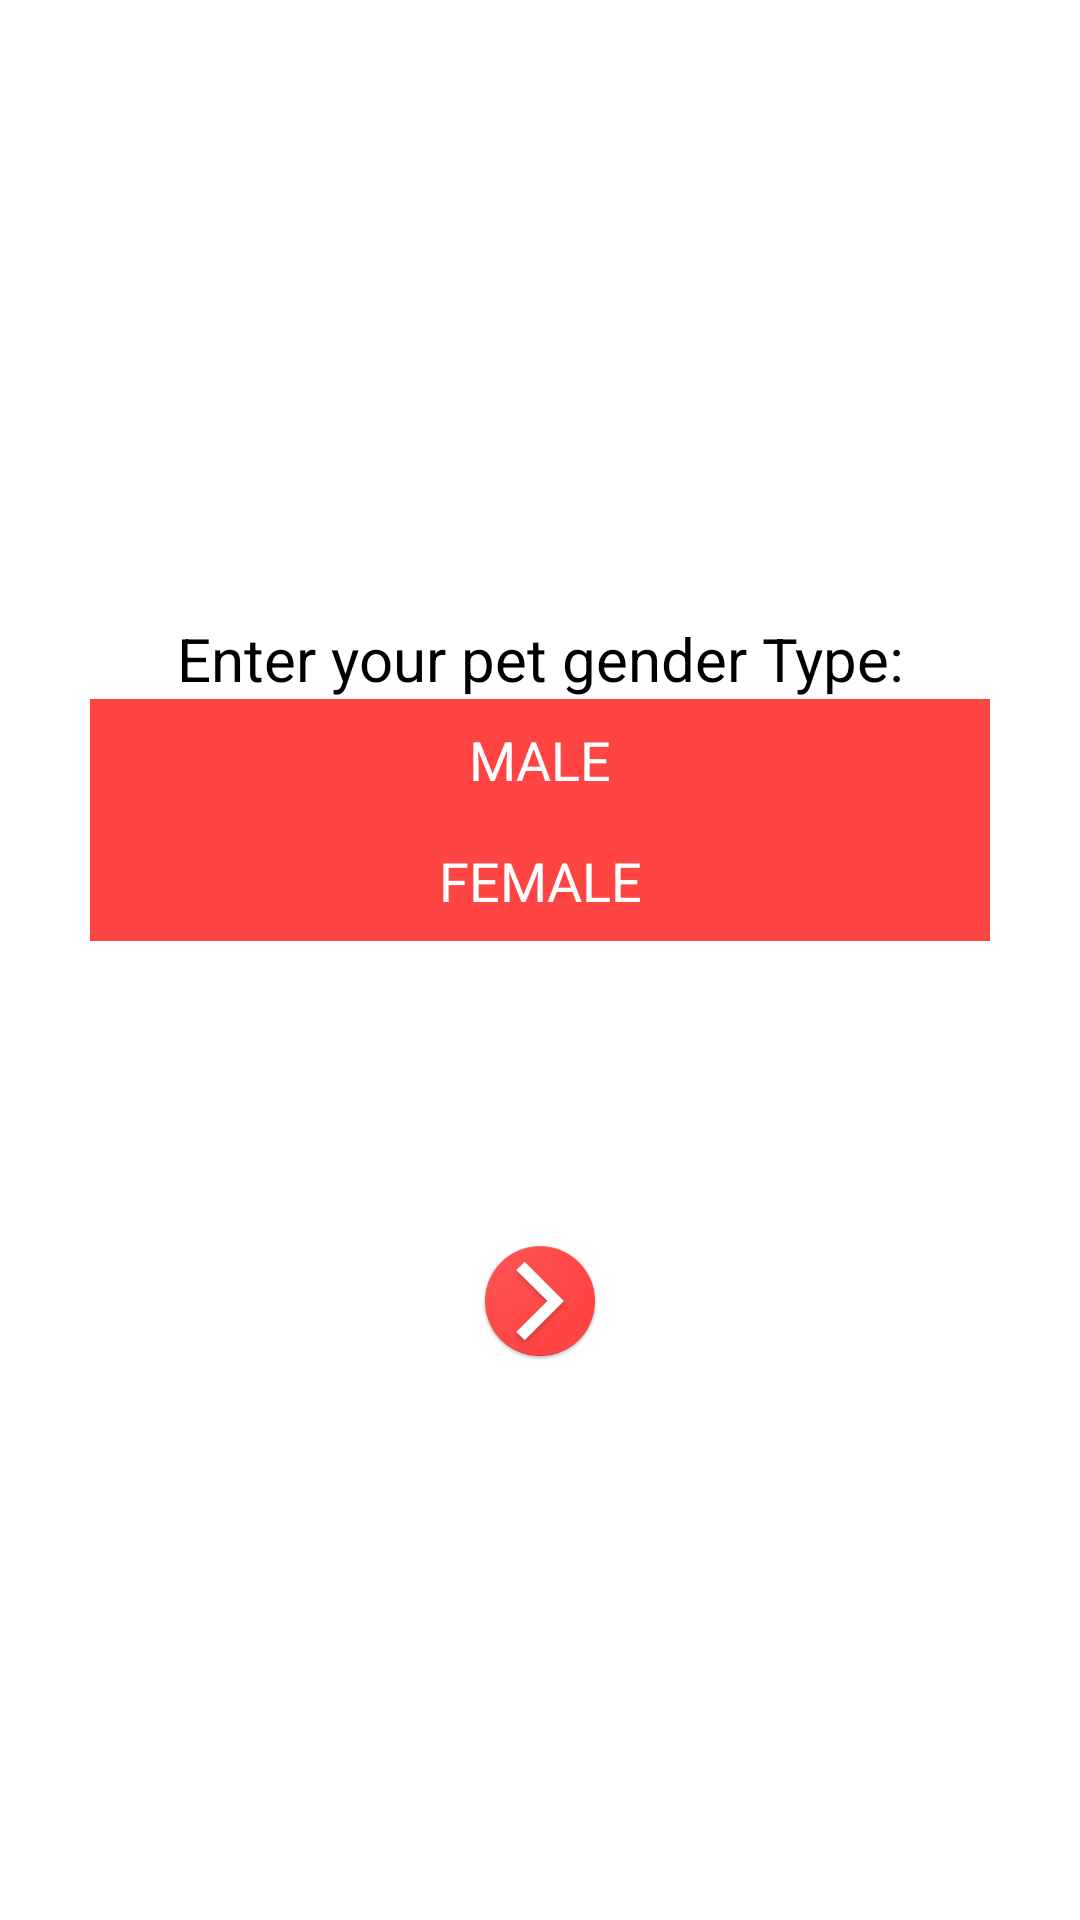

Locate icon controls on the screen. Image size 1080 × 1920, boxes as (x1, y1, x2, y2).
arrroww: (484, 1246, 596, 1359)
